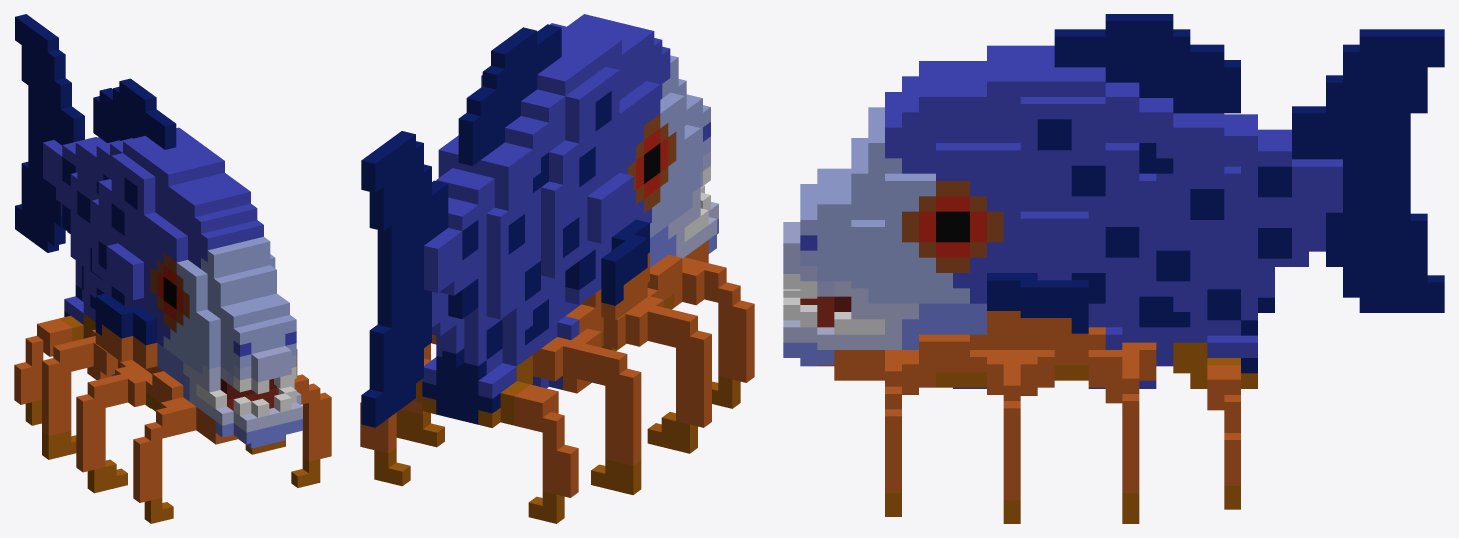
Rendered from footed_piranha.glb.
3 renders of one model, left to right at view 1: azimuth 30°, elevation 25°; view 2: azimuth 150°, elevation 25°; view 3: azimuth 270°, elevation 25°, orthographic. The views are drawn at different scales.
Bounding box in the file's own units: 0.38 × 0.58 × 0.78.
